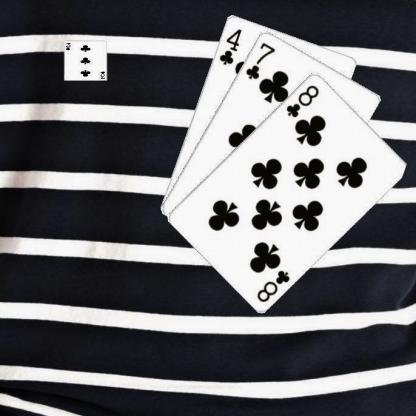4C: (216, 26, 242, 66)
7C: (242, 40, 276, 80)
8C: (283, 82, 320, 118), (254, 267, 291, 303)
